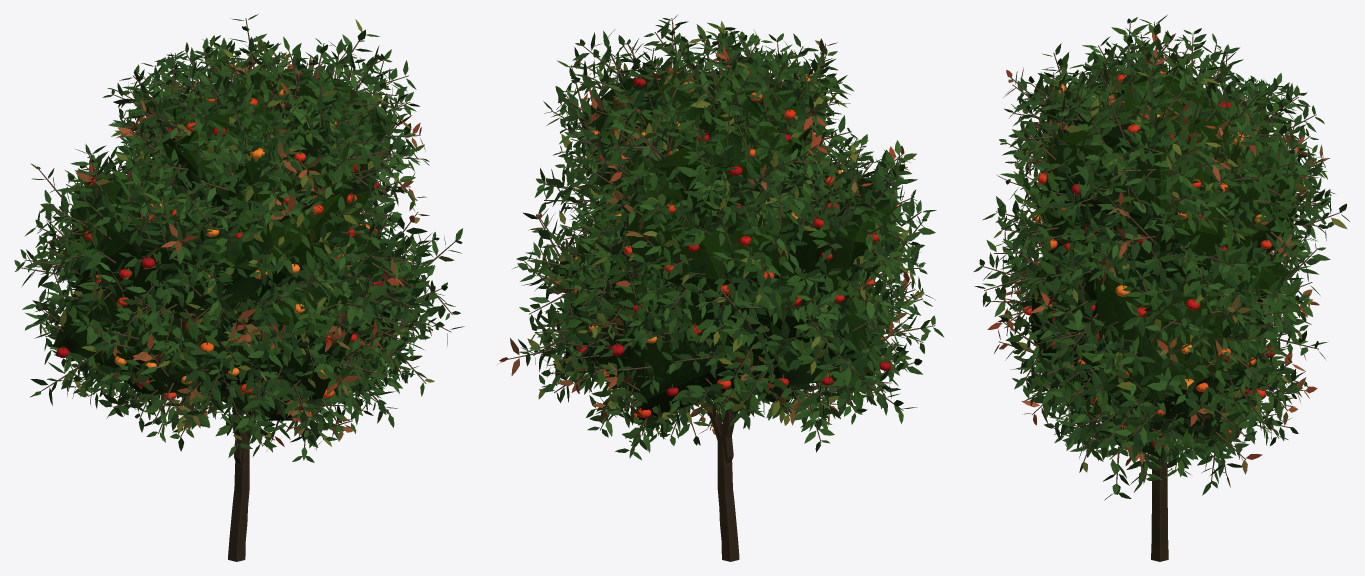
File: pitangueira_folhas.glb
3 renders of one model, left to right at view 1: azimuth 30°, elevation 25°; view 2: azimuth 150°, elevation 25°; view 3: azimuth 270°, elevation 25°, orthographic.
Parts seen in each view (by area): view 1: Pitangueira; view 2: Pitangueira; view 3: Pitangueira.
Boxes of the visible parts, x1,y1,x2,y2 form: Pitangueira: [14, 14, 464, 561]; Pitangueira: [499, 15, 944, 561]; Pitangueira: [973, 15, 1349, 561].
Size of the model in its own units: 1.36 by 1.62 by 1.07.
Materials: 11 (4 with a texture image).
